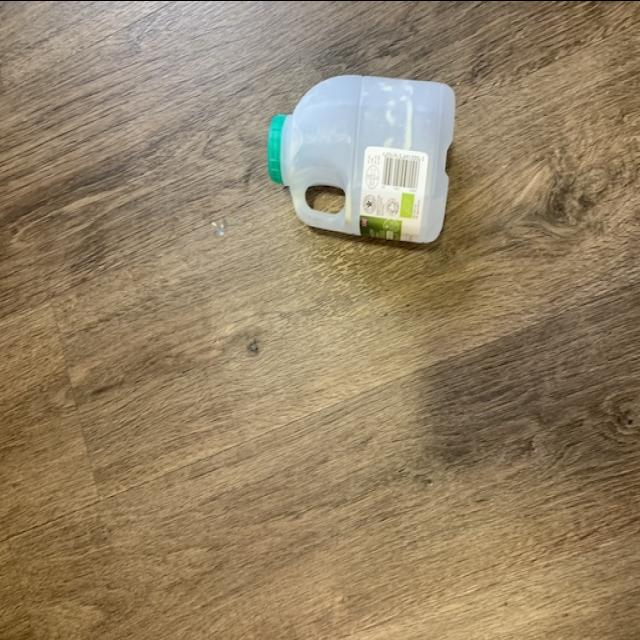litter: (267, 66, 461, 248)
